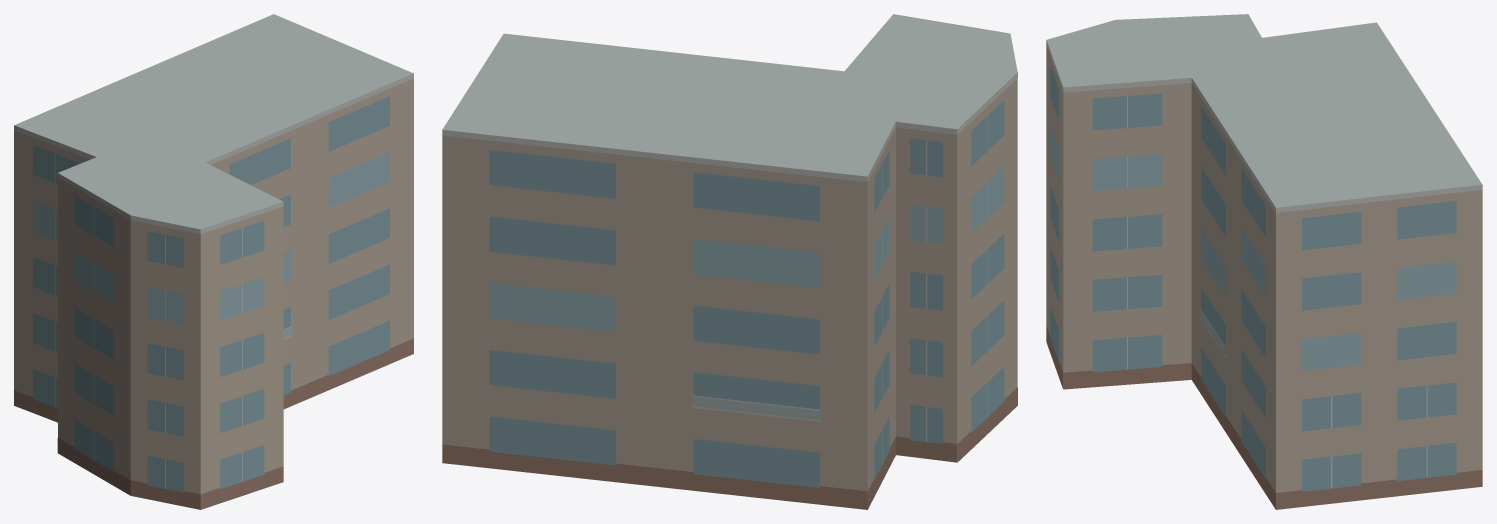
The model's file is survey-upis-32929393.glb.
The picture shows the model from 3 angles, left to right: view 1: azimuth 30°, elevation 25°; view 2: azimuth 150°, elevation 25°; view 3: azimuth 270°, elevation 25°; orthographic projection. The views are drawn at different scales.
Parts seen in each view (by area): view 1: survey-upis-32929393.tmp; view 2: survey-upis-32929393.tmp; view 3: survey-upis-32929393.tmp.
Boxes of the visible parts, left/top/right/bottom form: survey-upis-32929393.tmp: left=14, top=14, right=413, bottom=509; survey-upis-32929393.tmp: left=442, top=14, right=1017, bottom=509; survey-upis-32929393.tmp: left=1046, top=14, right=1482, bottom=509.
Size of the model in its own units: 19.7 by 14.3 by 18.73.
